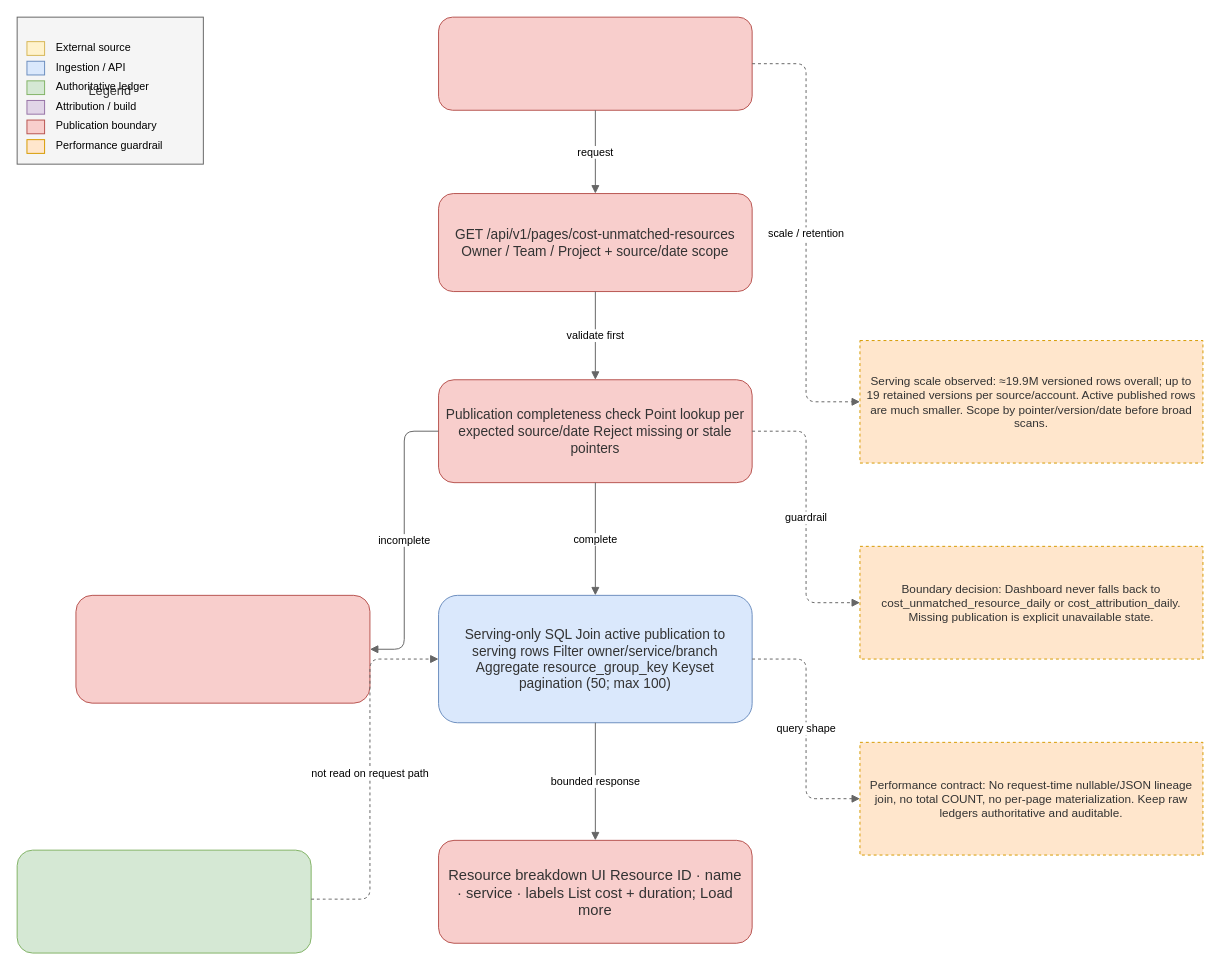
This 1220x970 diagram has some shape labels left out. Each missing label, with the centre of its shape:
Authoritative sources cost_attribution_daily cost_unmatched_resource_daily: [163,901]
Pending response pending_dates; no items or cursor Never exposes partial rows: [222,648]
Published daily pointer source/account/date + active version: [595,63]
